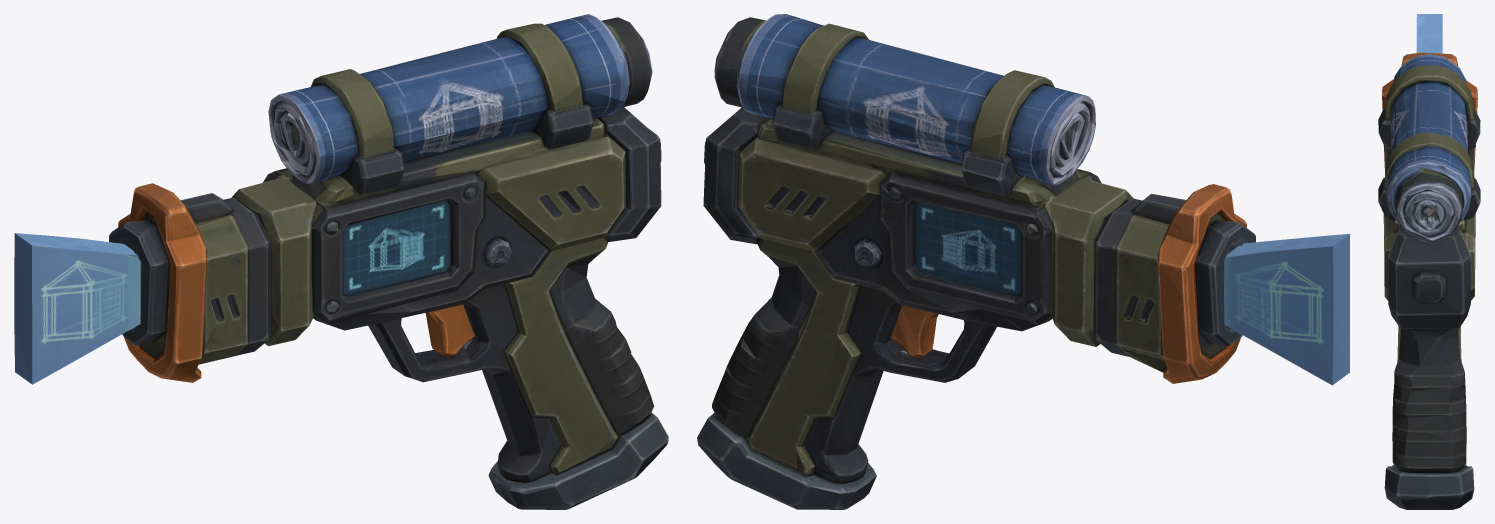
The model's file is build_tool.glb.
3 renders of one model, left to right at view 1: azimuth 30°, elevation 25°; view 2: azimuth 150°, elevation 25°; view 3: azimuth 270°, elevation 25°, orthographic. The views are drawn at different scales.
Visible parts, largest first — view 1: Mesh_0; view 2: Mesh_0; view 3: Mesh_0.
Boxes of the visible parts, x1,y1,x2,y2 form: Mesh_0: [14, 14, 668, 509]; Mesh_0: [697, 14, 1349, 509]; Mesh_0: [1378, 14, 1480, 509].
Size of what is drawn, in the model's own units: 0.38 by 0.2709 by 0.0711.
1 material, 1 textured.
